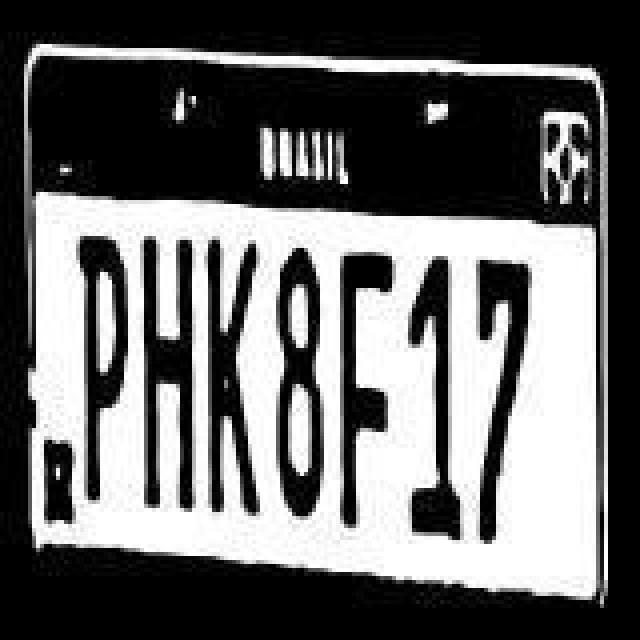1: (406, 254, 466, 546)
7: (472, 256, 536, 560)
8: (274, 234, 326, 526)
F: (338, 240, 398, 536)
H: (136, 218, 200, 526)
K: (204, 236, 260, 516)
P: (74, 214, 134, 522)
